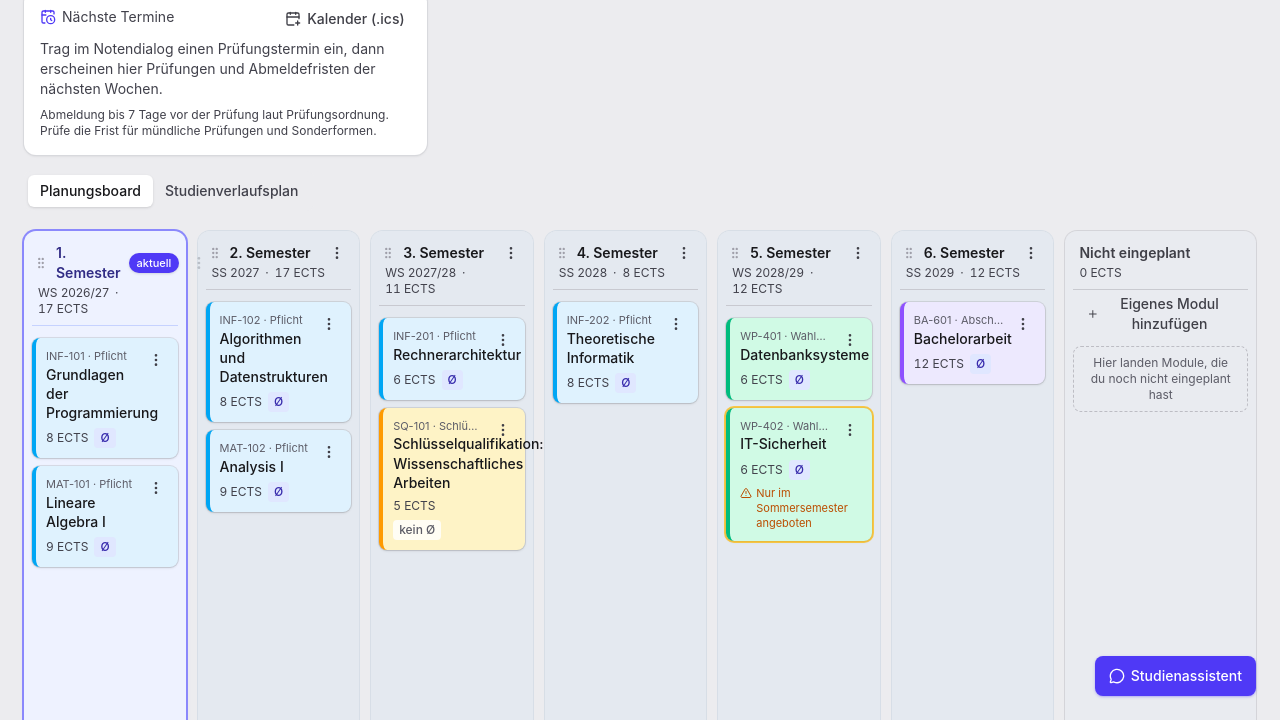
Test: module details dialog › shows a note for a module without details
(page scrolled)
Click the button named "Aktionen für Grundlagen der Programmierung" at (156, 360), box [140,344,172,376]
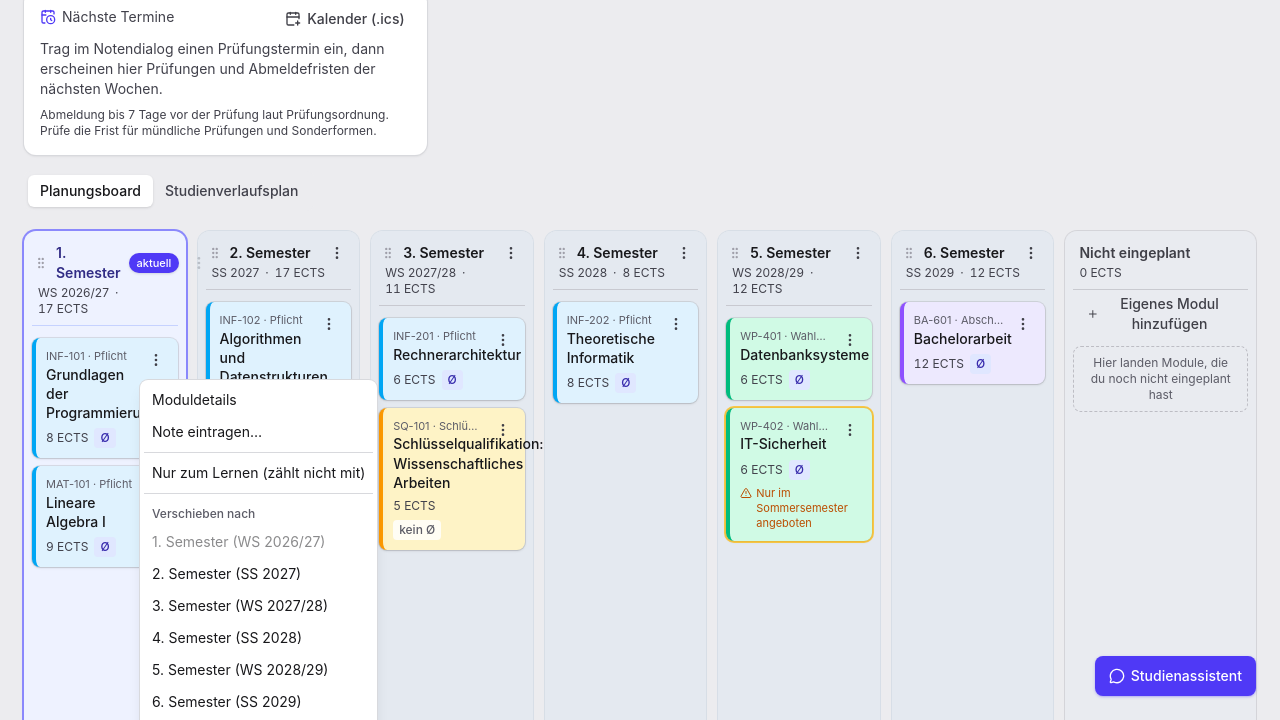
Click the menu item "Moduldetails" at (194, 400), box [152,391,237,408]
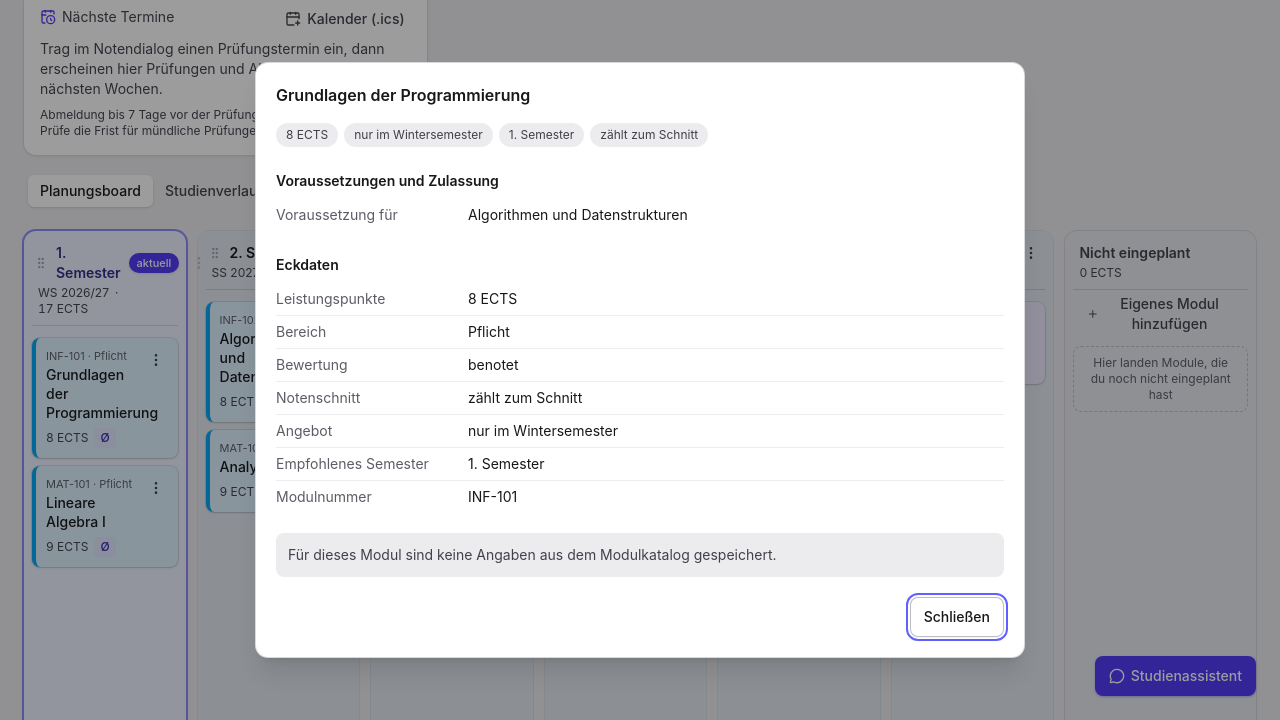
expect the text "Für dieses Modul sind keine Angaben aus dem Modulkatalog gespeichert." is shown: met, box [276,533,1004,577]
